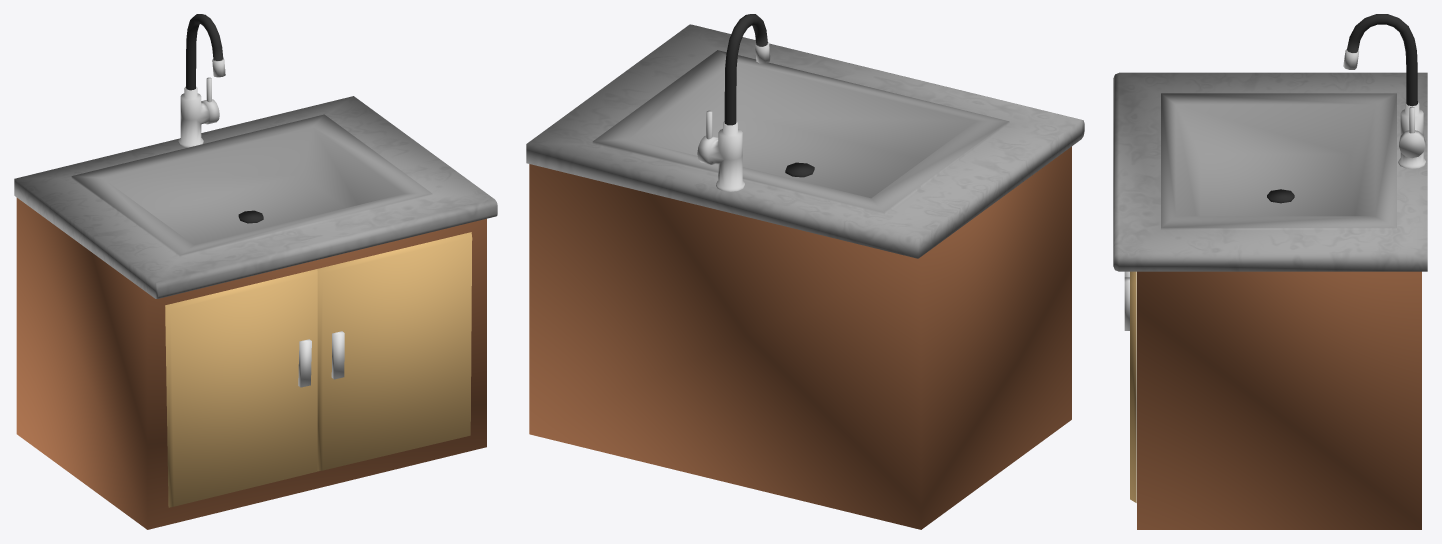
File: Sink.dae
The picture shows the model from 3 angles, left to right: view 1: azimuth 30°, elevation 25°; view 2: azimuth 150°, elevation 25°; view 3: azimuth 270°, elevation 25°; orthographic projection. The views are drawn at different scales.
Visible parts, largest first — view 1: Sink; view 2: Sink; view 3: Sink.
Part boxes in pixels (box(x1,y1,x2,y2)): Sink: box(14, 14, 497, 529); Sink: box(526, 14, 1084, 529); Sink: box(1113, 14, 1427, 529).
Bounding box in the file's own units: 1.33 × 0.9767 × 1.48.
Materials: 1 (1 with a texture image).
